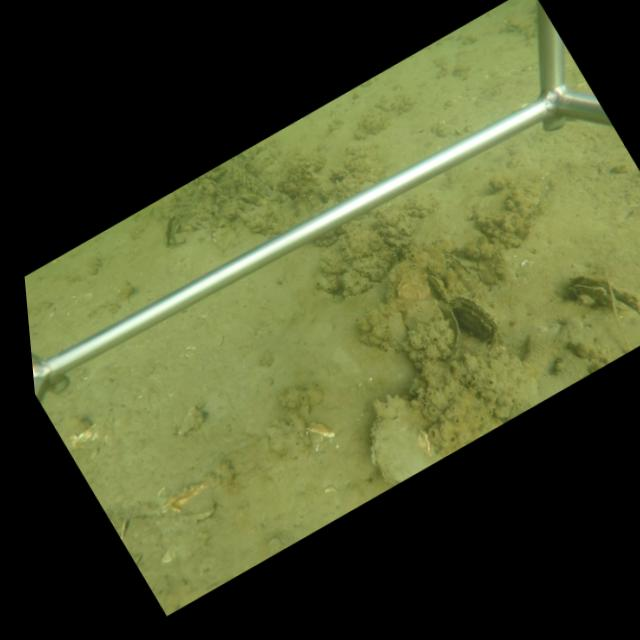Oyster-Closed: (387, 256, 466, 363), (367, 391, 442, 485), (471, 182, 545, 242), (454, 291, 503, 346), (441, 249, 475, 290), (428, 271, 455, 302)
Oyster-Open: (558, 267, 640, 312), (162, 213, 185, 248)
